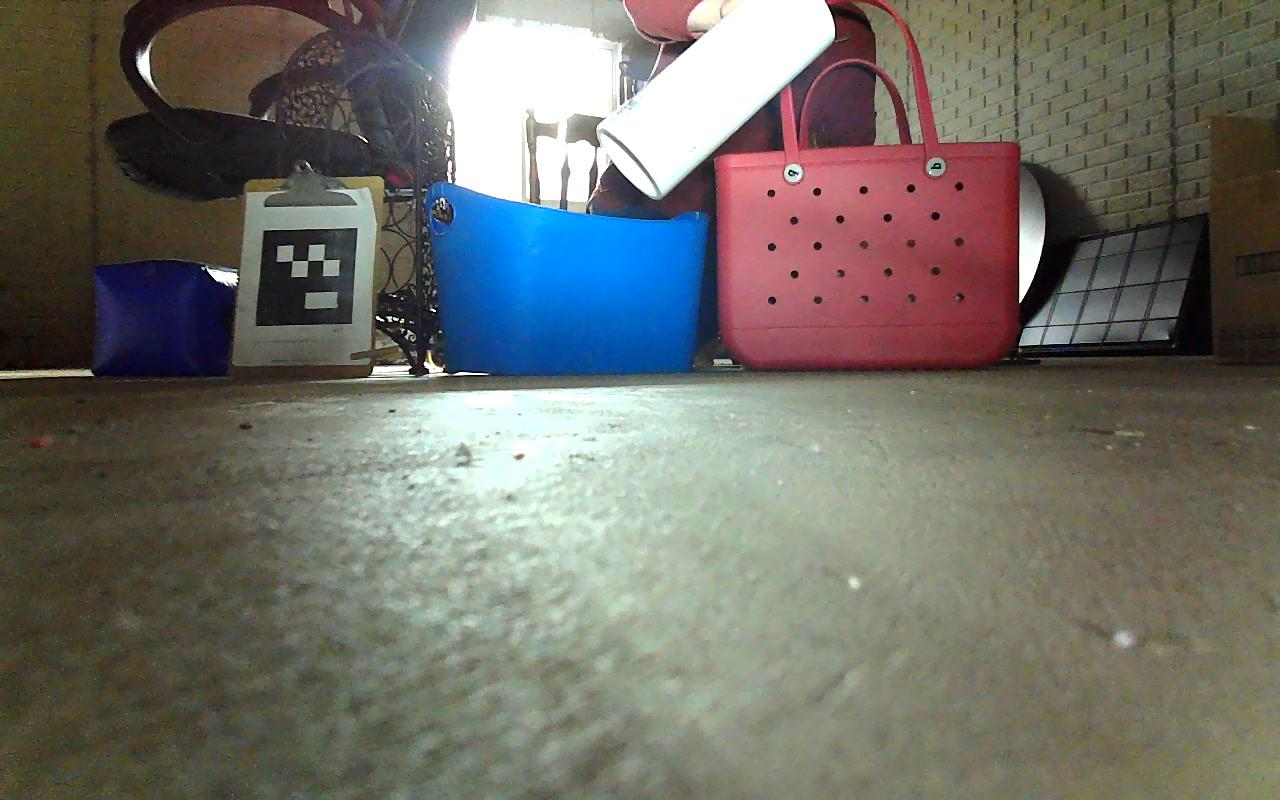coral: (595, 0, 835, 207)
